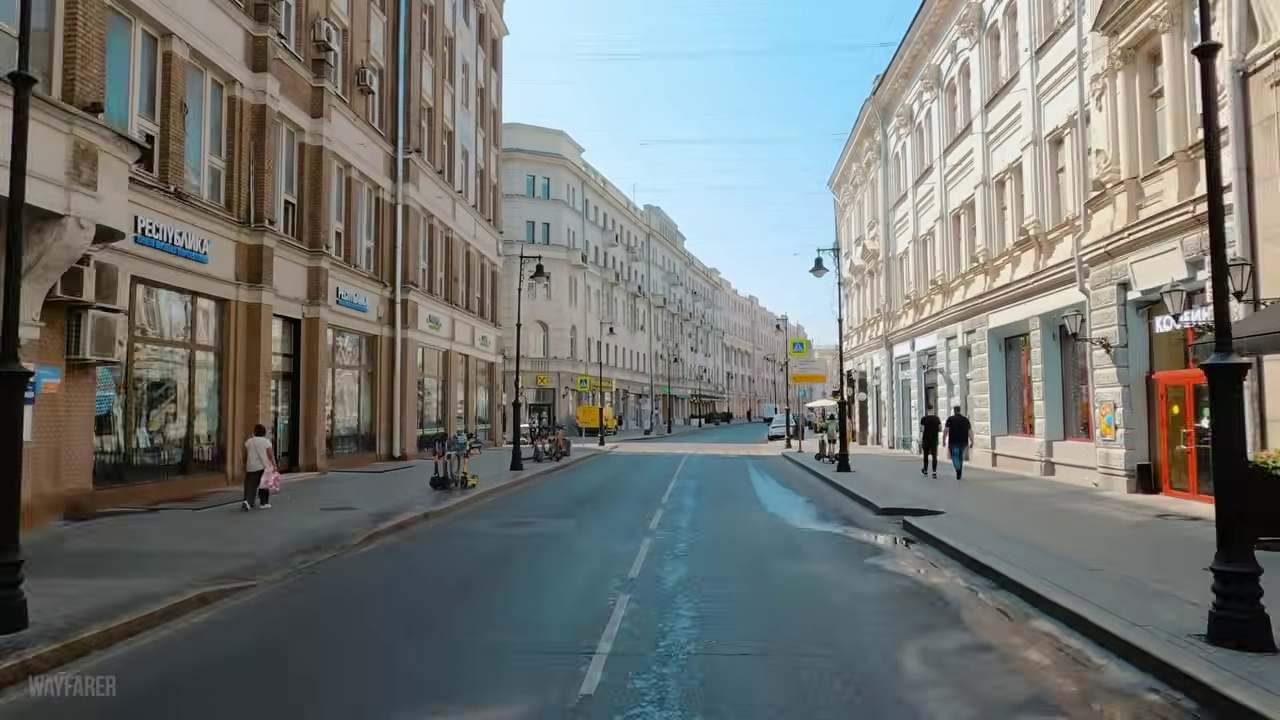apagada: (806, 256, 833, 284)
